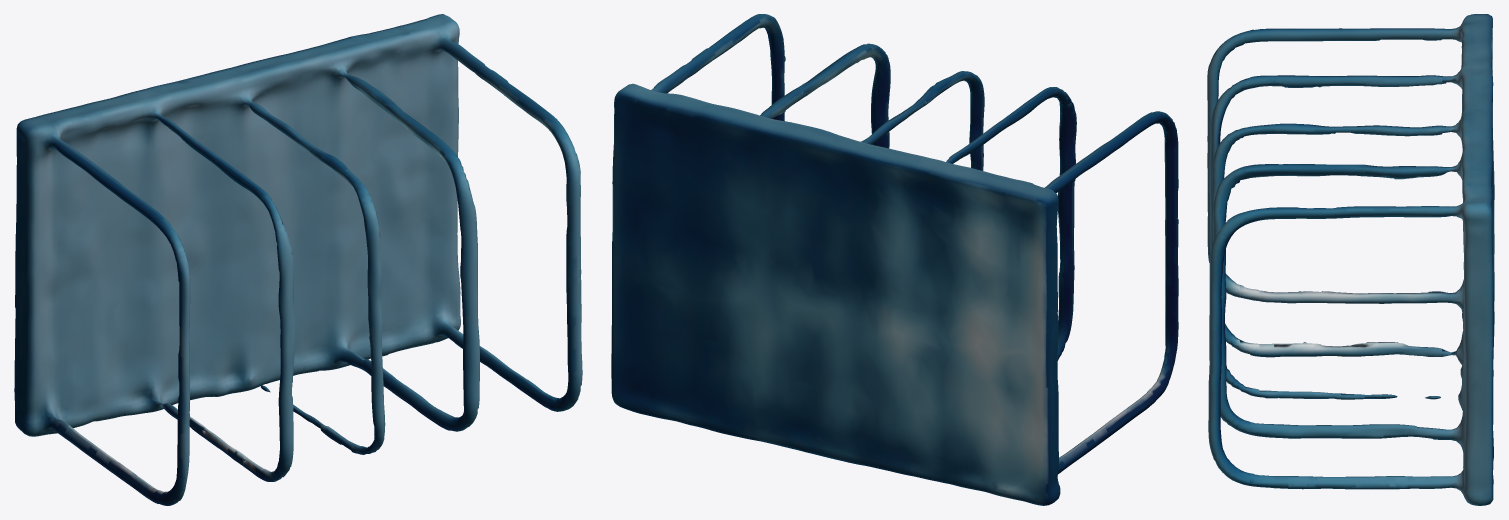
Rendered from sorter.glb.
3 views of the same model, side by side, from view 1: azimuth 30°, elevation 25°; view 2: azimuth 150°, elevation 25°; view 3: azimuth 270°, elevation 25° (orthographic). The views are drawn at different scales.
Bounding box in the file's own units: 0.9994 × 0.6976 × 0.5991.
